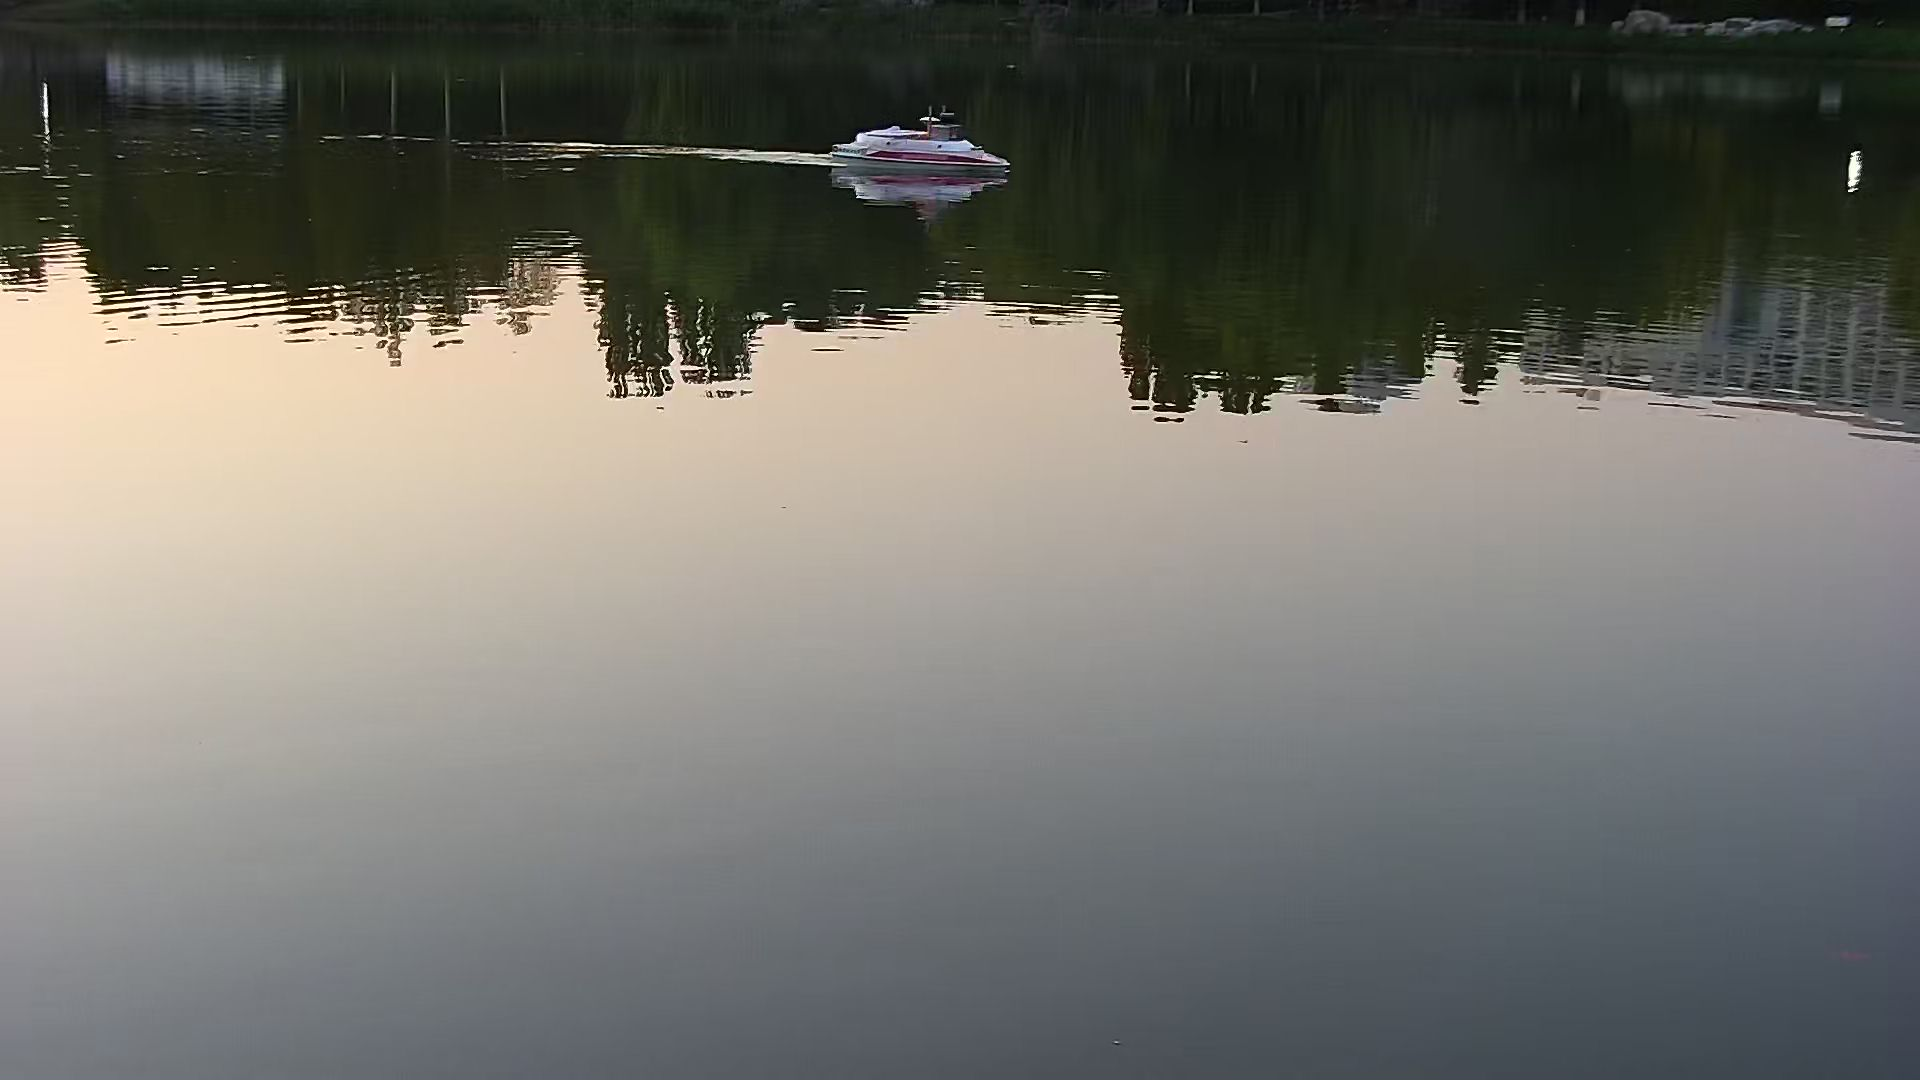boat: (825, 102, 1007, 193)
rock: (1600, 13, 1818, 40)
